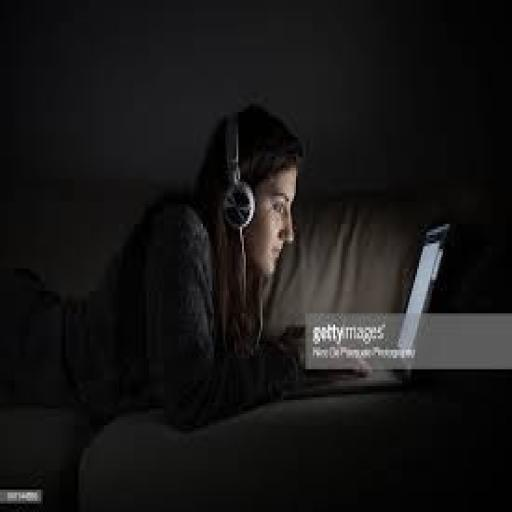using_laptop: (300, 216, 452, 372)
